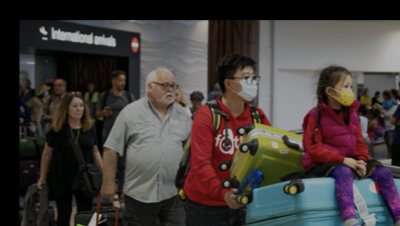with_mask: (231, 72, 259, 100), (334, 79, 356, 108)
without_mask: (155, 79, 178, 106), (69, 102, 85, 119), (51, 81, 66, 96), (115, 75, 126, 91), (191, 97, 203, 109)
